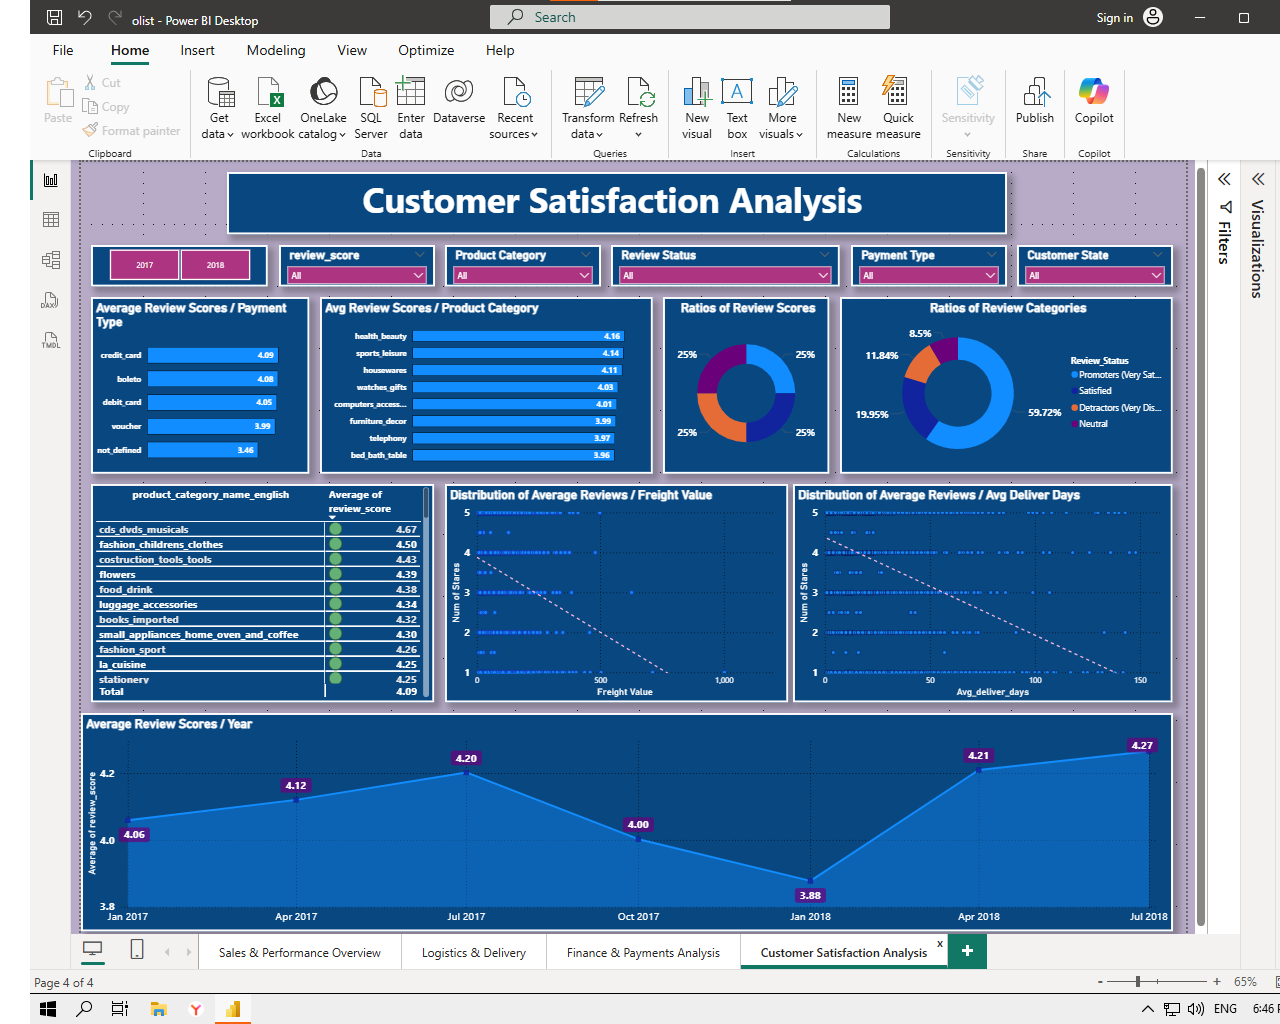

This screenshot's page, from the dashboard's own definition file:
{"tool":"powerbi","page":{"name":"Customer Satisfaction Analysis","canvas":[1700,1200],"ordinal":3},"visuals":[{"type":"barChart","title":"Avg Review Scores / Product Category","fields":{"Category":["product_category_translation.product_category_name_english"],"Y":["Avg(order_reviews.review_score)"]},"box":[368,208,512,272],"z":0},{"type":"donutChart","title":"Ratios of  Review Categories","fields":{"Category":["order_reviews.Review_Status"],"Y":["CountNonNull(order_reviews.Review_Status)"]},"box":[1168,208,512,272],"z":1000},{"type":"scatterChart","title":"Distribution of Average Reviews / Freight Value","fields":{"X":["Sum(order_items (Fact).freight_value)"],"Y":["Avg(order_reviews.review_score)"],"Category":["customers.customer_id"]},"box":[560,496,528,336],"z":2000},{"type":"scatterChart","title":"Distribution of Average Reviews / Avg Deliver Days","fields":{"Y":["Avg(order_reviews.review_score)"],"X":["Mesures.Avg_deliver_days"],"Category":["customers.customer_id"]},"box":[1096,496,584,336],"z":3000},{"type":"donutChart","title":"Ratios of  Review Scores","fields":{"Y":["Count(order_reviews.review_score)"],"Category":["order_reviews.review_score"]},"box":[896,208,256,272],"z":4000},{"type":"pivotTable","fields":{"Rows":["product_category_translation.product_category_name_english"],"Values":["Avg(order_reviews.review_score)"]},"box":[16,496,528,336],"z":5000},{"type":"barChart","title":"Average Review Scores / Payment Type","fields":{"Category":["payments.payment_type"],"Y":["Avg(order_reviews.review_score)"]},"box":[16,208,336,272],"z":6000},{"type":"areaChart","title":"Average Review Scores / Year","fields":{"Category":["orders_status.purchase_time.Variation.Date Hierarchy.Year","orders_status.purchase_time.Variation.Date Hierarchy.Quarter","orders_status.purchase_time.Variation.Date Hierarchy.Month"],"Y":["Avg(order_reviews.review_score)"]},"box":[0,848,1680,336],"z":7000},{"type":"textbox","box":[224,16,1200,96],"z":8000},{"type":"slicer","fields":{"Values":["orders_status.purchase_time.Variation.Date Hierarchy.Year"]},"box":[16,128,272,64],"z":9000},{"type":"slicer","fields":{"Values":["order_reviews.review_score"]},"box":[304,128,240,64],"z":10000},{"type":"slicer","fields":{"Values":["product_category_translation.product_category_name_english"]},"box":[560,128,240,64],"z":11000},{"type":"slicer","fields":{"Values":["order_reviews.Review_Status"]},"box":[816,128,352,64],"z":12000},{"type":"slicer","fields":{"Values":["payments.payment_type"]},"box":[1184,128,240,64],"z":13000},{"type":"slicer","fields":{"Values":["customers.customer_state"]},"box":[1440,128,240,64],"z":14000}]}

Visuals, with their boxes on the page's 1700x1200 design canvas (x1, y1, x2, y2). These are canvas units, not pixel positions in the 1280x1024 screenshot, which may show the page scaled, cropped or inside an application window:
"Avg Review Scores / Product Category" barChart: pyautogui.locateOnScreen(368, 208, 880, 480)
"Ratios of  Review Categories" donutChart: pyautogui.locateOnScreen(1168, 208, 1680, 480)
"Distribution of Average Reviews / Freight Value" scatterChart: pyautogui.locateOnScreen(560, 496, 1088, 832)
"Distribution of Average Reviews / Avg Deliver Days" scatterChart: pyautogui.locateOnScreen(1096, 496, 1680, 832)
"Ratios of  Review Scores" donutChart: pyautogui.locateOnScreen(896, 208, 1152, 480)
pivotTable - product_category_translation.product_category_name_english x Avg(order_reviews.review_score): pyautogui.locateOnScreen(16, 496, 544, 832)
"Average Review Scores / Payment Type" barChart: pyautogui.locateOnScreen(16, 208, 352, 480)
"Average Review Scores / Year" areaChart: pyautogui.locateOnScreen(0, 848, 1680, 1184)
textbox: pyautogui.locateOnScreen(224, 16, 1424, 112)
slicer - orders_status.purchase_time.Variation.Date Hierarchy.Year: pyautogui.locateOnScreen(16, 128, 288, 192)
slicer - order_reviews.review_score: pyautogui.locateOnScreen(304, 128, 544, 192)
slicer - product_category_translation.product_category_name_english: pyautogui.locateOnScreen(560, 128, 800, 192)
slicer - order_reviews.Review_Status: pyautogui.locateOnScreen(816, 128, 1168, 192)
slicer - payments.payment_type: pyautogui.locateOnScreen(1184, 128, 1424, 192)
slicer - customers.customer_state: pyautogui.locateOnScreen(1440, 128, 1680, 192)
